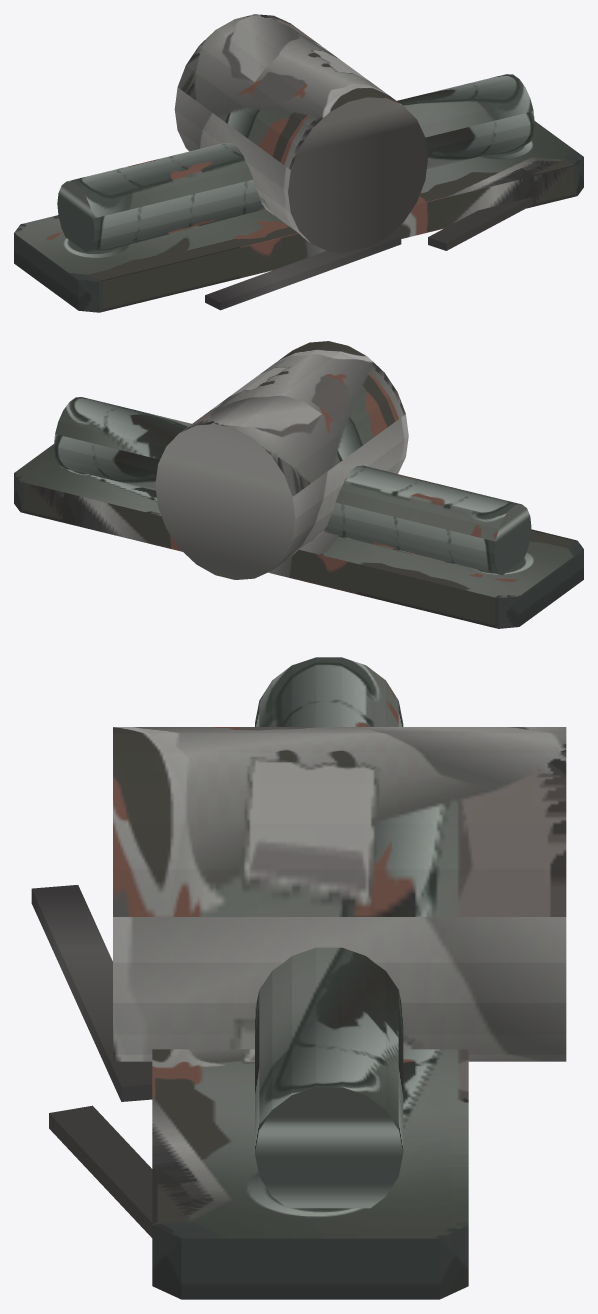
Rendered from Building_AncientWindTurbineBody.glb.
The picture shows the model from 3 angles, top to bottom: view 1: azimuth 30°, elevation 25°; view 2: azimuth 150°, elevation 25°; view 3: azimuth 270°, elevation 25°; orthographic projection. The views are drawn at different scales.
Parts seen in each view (by area): view 1: AncientWindTurbineBody; view 2: AncientWindTurbineBody; view 3: AncientWindTurbineBody.
Boxes of the visible parts, <box> form: AncientWindTurbineBody: <box>14,14,583,312</box>; AncientWindTurbineBody: <box>14,341,583,628</box>; AncientWindTurbineBody: <box>31,657,566,1299</box>.
Bounding box in the file's own units: 3.46 × 1.04 × 1.58.
1 material, 1 textured.
